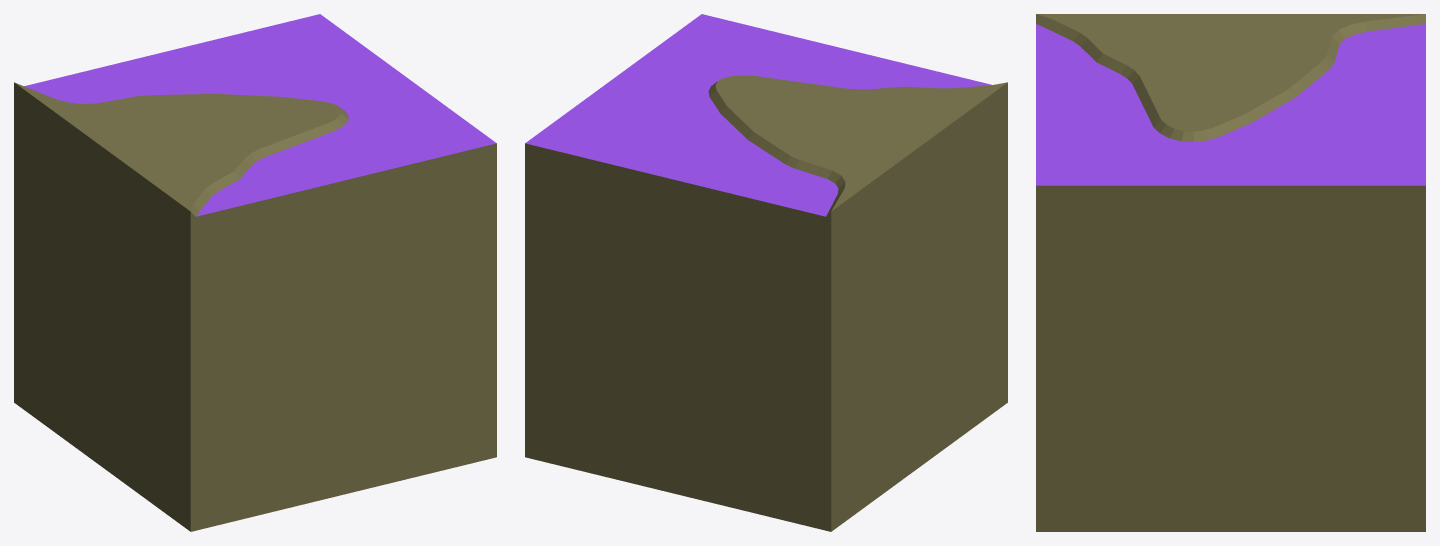
The model's file is tile_toxic_5g_01.fbx.
3 views of the same model, side by side, from view 1: azimuth 30°, elevation 25°; view 2: azimuth 150°, elevation 25°; view 3: azimuth 270°, elevation 25° (orthographic). The views are drawn at different scales.
Visible parts, largest first — view 1: tile_toxic_5g_01; view 2: tile_toxic_5g_01; view 3: tile_toxic_5g_01.
Boxes of the visible parts, x1,y1,x2,y2 form: tile_toxic_5g_01: [14, 14, 496, 531]; tile_toxic_5g_01: [525, 14, 1007, 531]; tile_toxic_5g_01: [1036, 14, 1425, 531].
Size of the model in its own units: 100 by 100 by 100.
